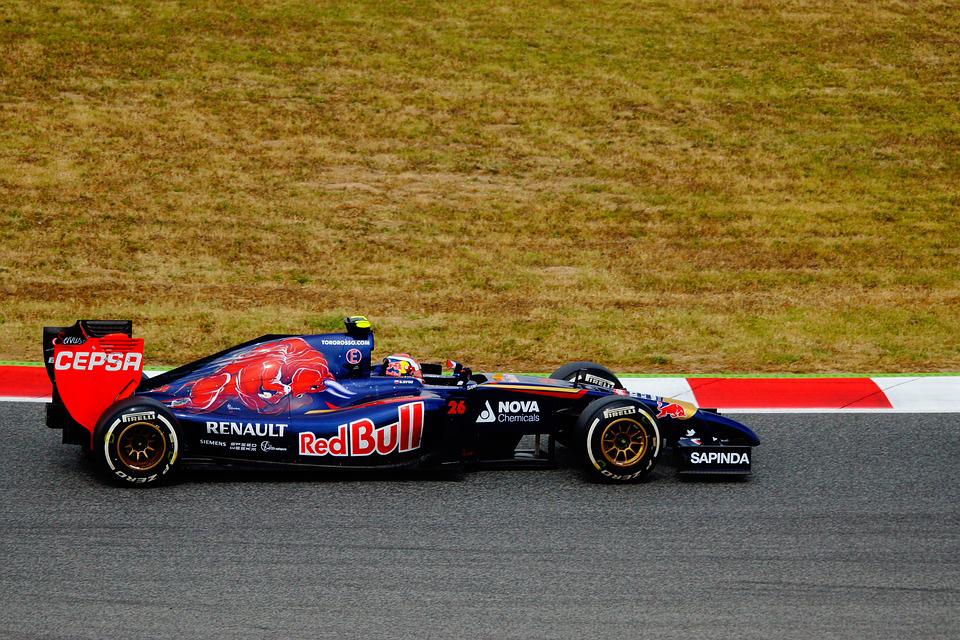F1 Car: (30, 309, 762, 490)
